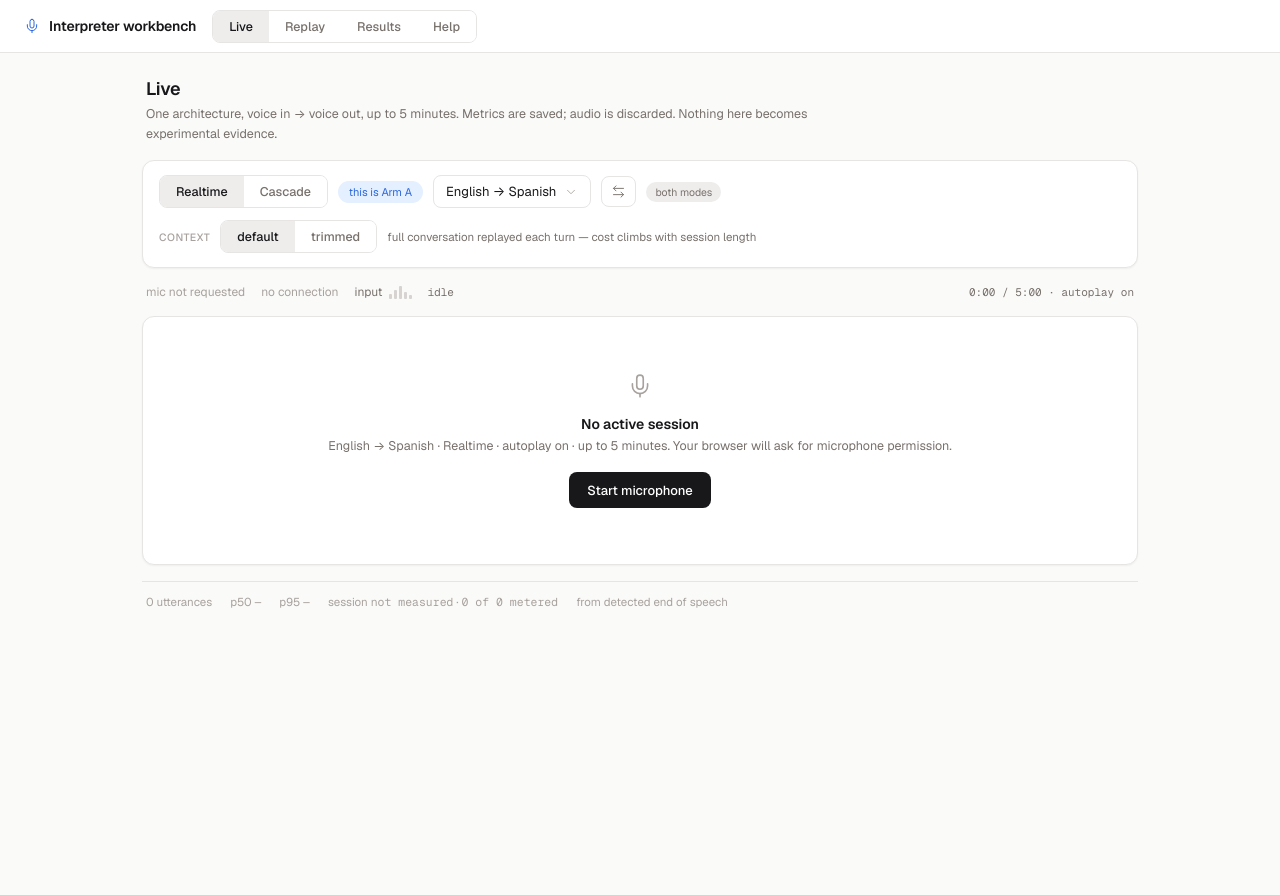
ticket 025 — the stamp stays Results-only (regression) › AC3: absent on Replay with a ledger FULL of gate-passing runs
The width and height of the screenshot is (1280, 895).
Click the button "Replay" at (305, 26), box [269,10,341,42]
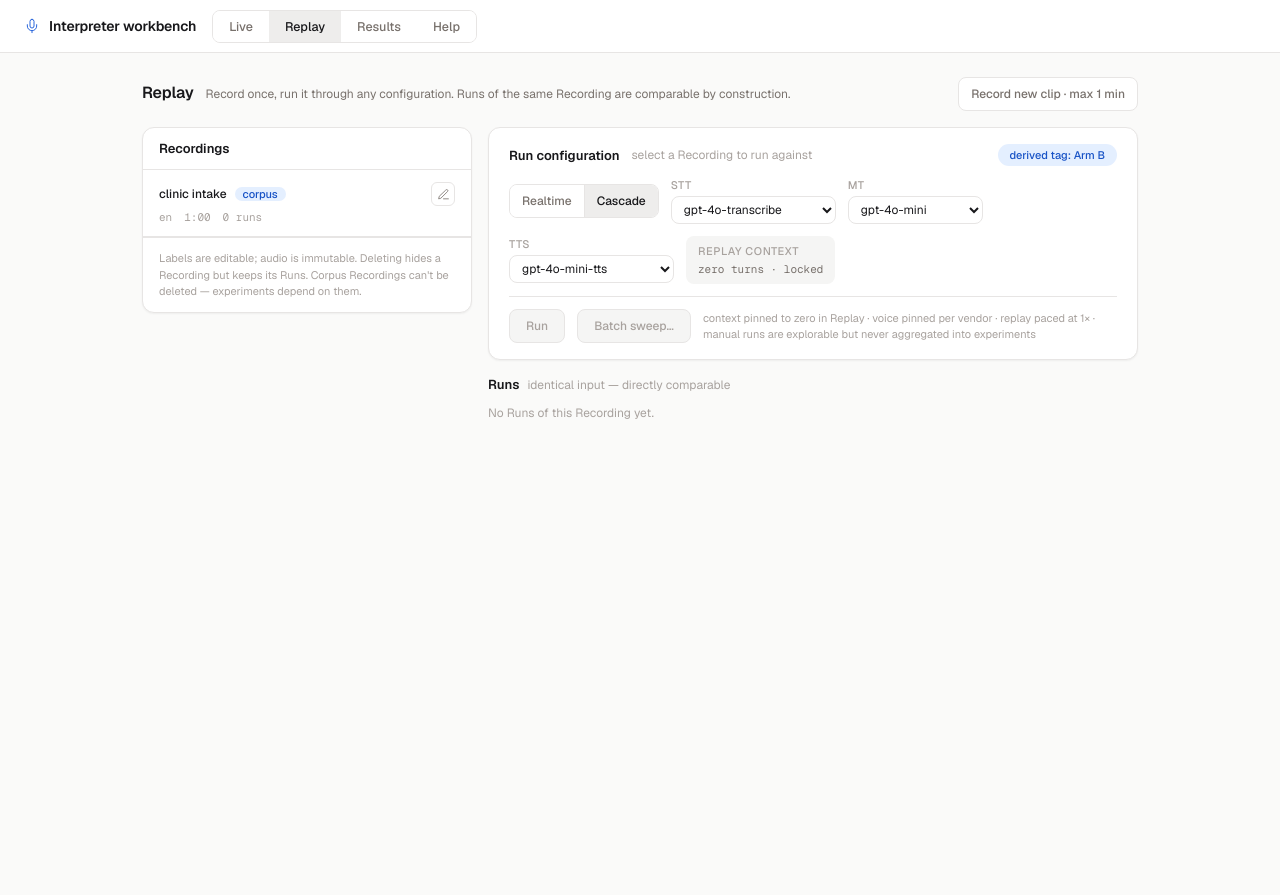
Check: the element that starts with "Replay" is shown, box [142,77,1138,421]
Click the button "Results" at (379, 26), box [341,10,417,42]
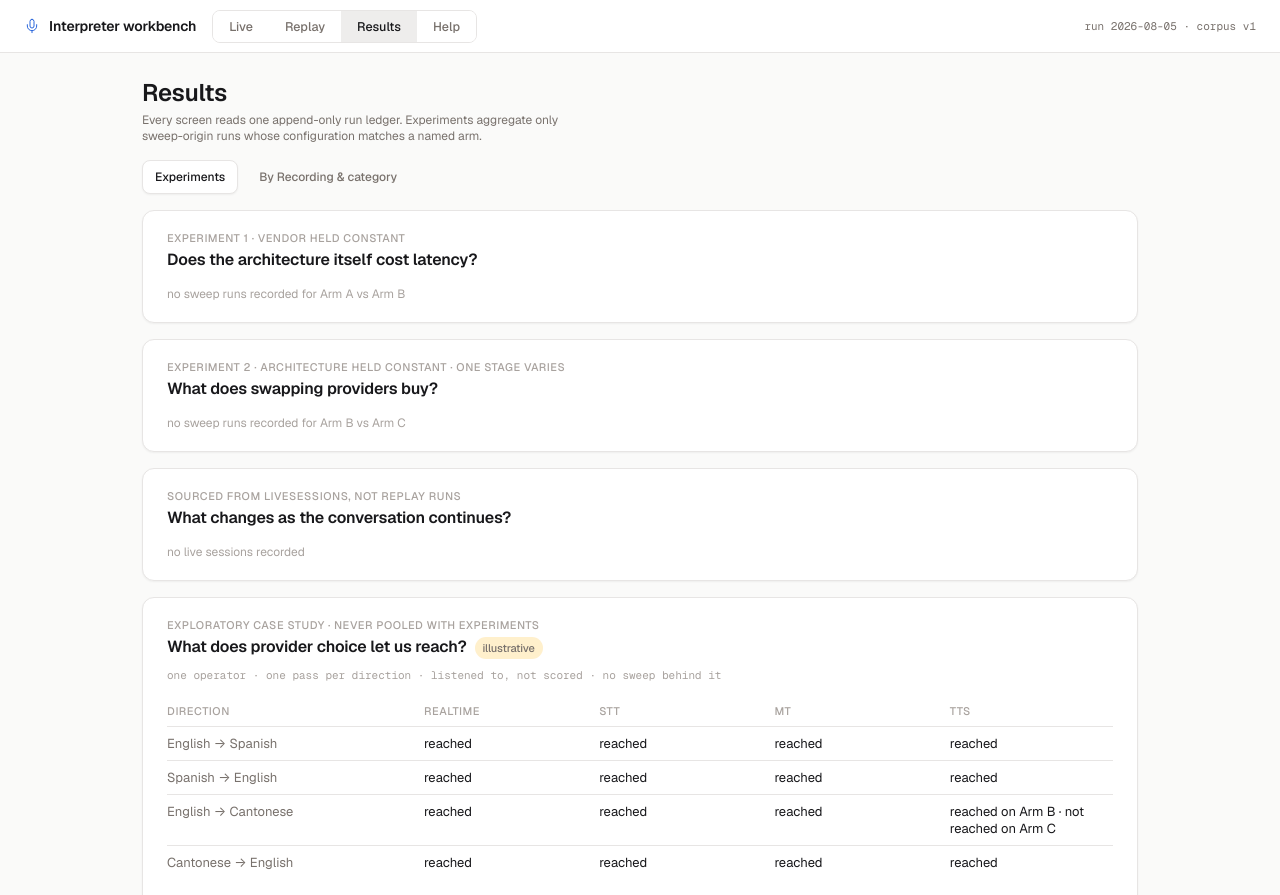
Check: the text "run 2026-08-05 · corpus v1" is shown, box [1084,19,1256,33]
